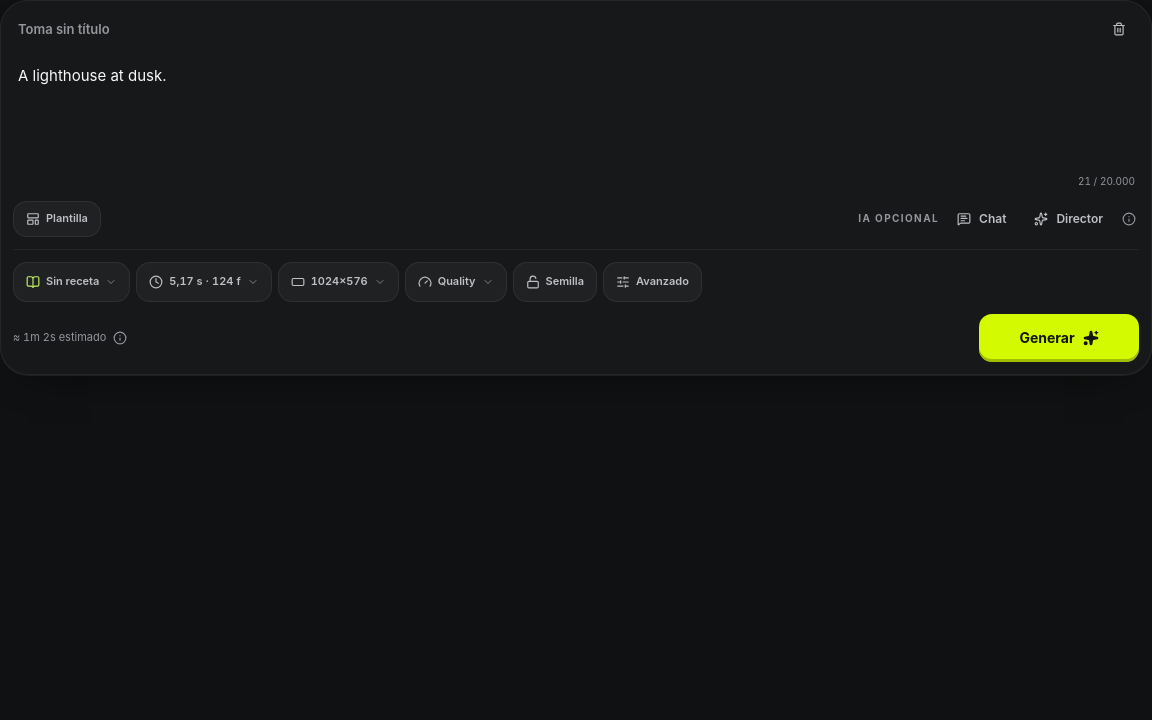
Generate › keeps the take and explains when the backend refuses it
The width and height of the screenshot is (1152, 720).
Click the button with aria-label "Generar toma".
click(1059, 338)  # box [979, 314, 1139, 362]
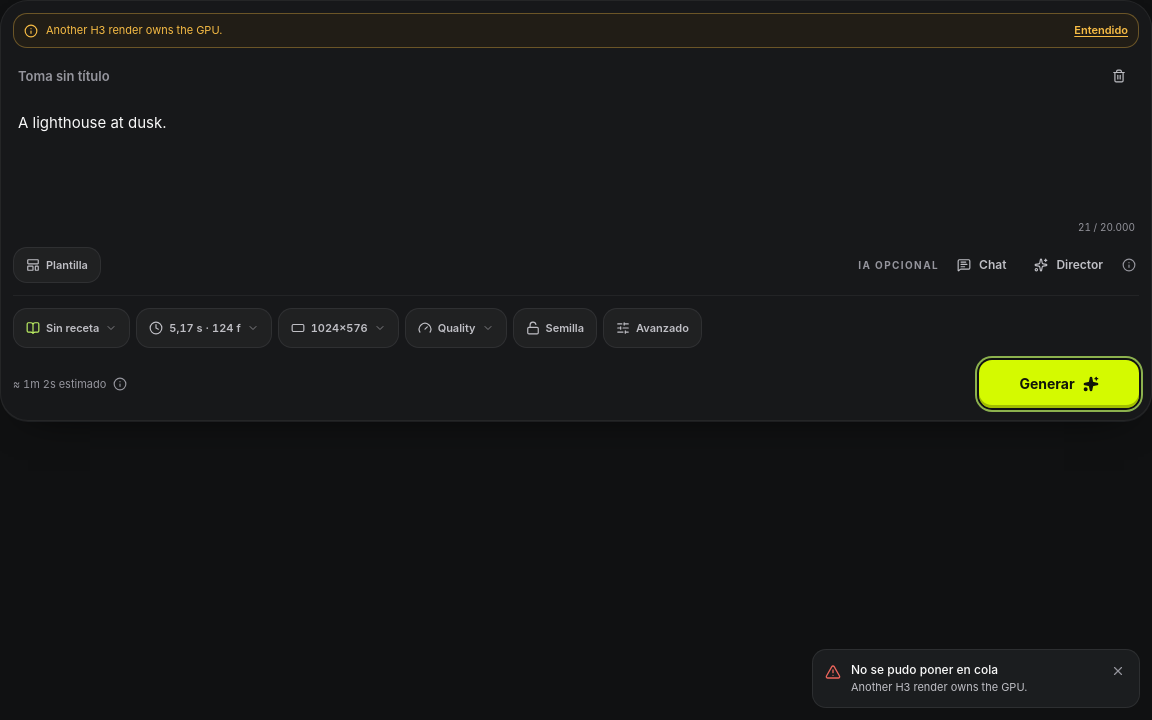
Expected: the text "No se pudo poner en cola" is shown, [851, 662, 998, 677]
Expected: the 1st text "Another H3 render owns the GPU." is shown, [46, 23, 222, 37]
